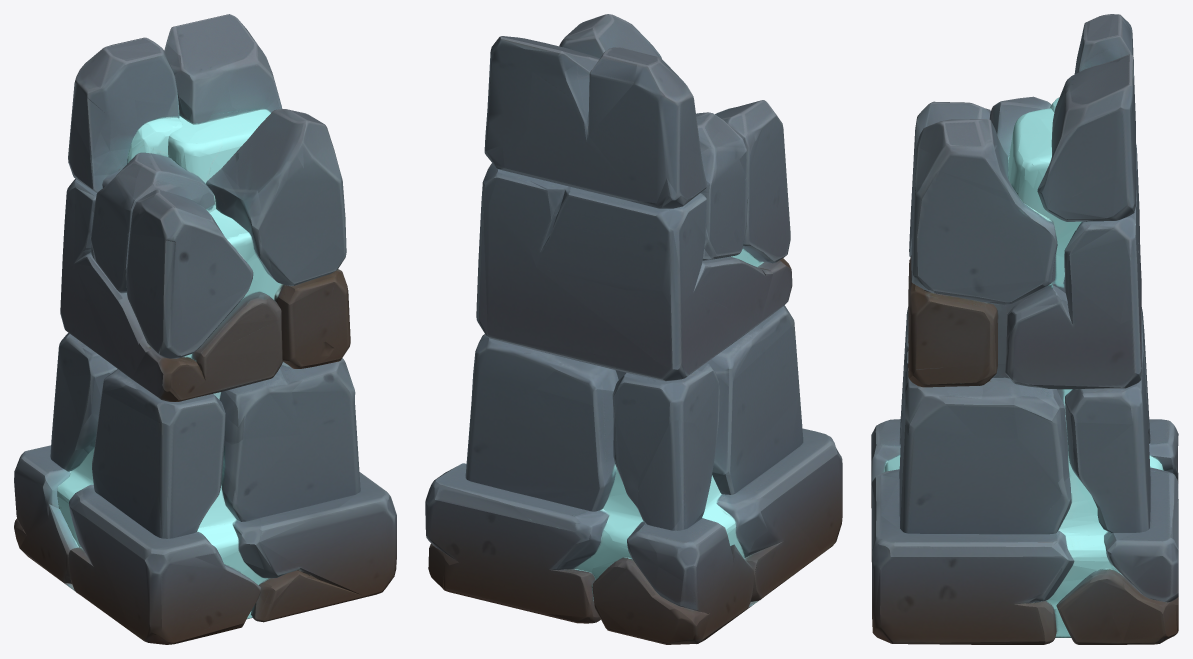
File: bridge-hack-abyss.glb
The picture shows the model from 3 angles, left to right: view 1: azimuth 30°, elevation 25°; view 2: azimuth 150°, elevation 25°; view 3: azimuth 270°, elevation 25°; orthographic projection. The views are drawn at different scales.
Bounding box in the file's own units: 0.9844 × 1.9 × 0.9857.
Materials: 1 (1 with a texture image).
